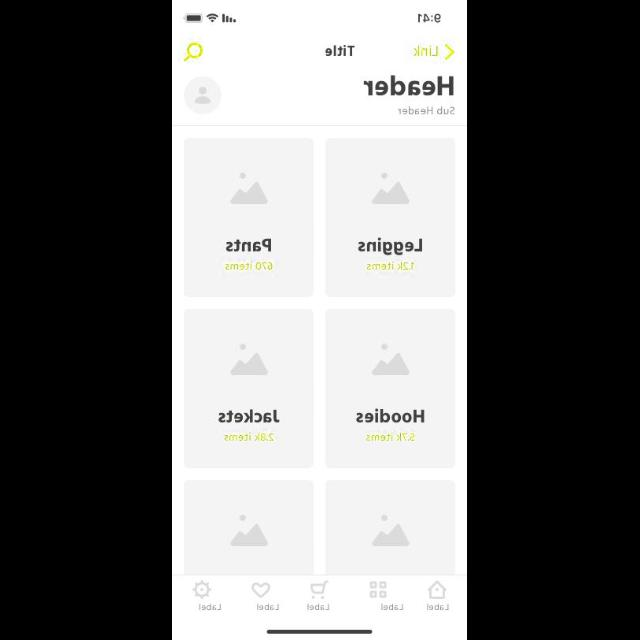icon: (184, 76, 222, 114), (182, 42, 204, 64), (311, 580, 331, 600), (428, 580, 448, 600), (192, 580, 212, 598), (370, 580, 388, 598), (252, 582, 270, 598), (444, 44, 454, 60)
image: (184, 138, 314, 298), (325, 138, 455, 298), (326, 310, 456, 468), (184, 310, 314, 468), (326, 480, 456, 576), (184, 480, 314, 574)
text: (363, 76, 453, 96), (358, 238, 422, 256), (356, 409, 424, 423), (218, 409, 280, 423), (225, 239, 272, 253), (398, 106, 456, 115), (224, 432, 276, 442), (224, 261, 274, 271), (366, 432, 416, 442), (366, 262, 416, 270), (325, 45, 355, 57), (412, 46, 438, 58), (426, 602, 450, 612), (381, 602, 405, 612), (198, 603, 222, 611), (255, 604, 281, 610), (307, 604, 331, 610)
uppertaskbar: (183, 12, 441, 24)
